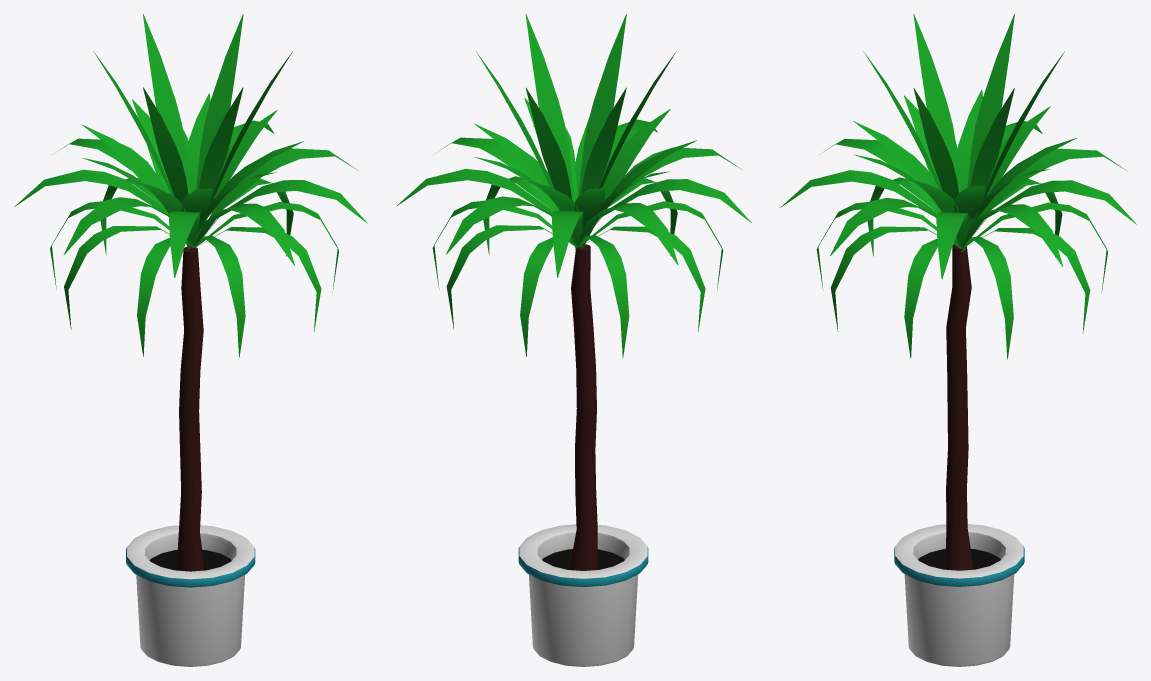
File: Palm.fbx
3 renders of one model, left to right at view 1: azimuth 30°, elevation 25°; view 2: azimuth 150°, elevation 25°; view 3: azimuth 270°, elevation 25°, orthographic.
Parts seen in each view (by area): view 1: Palm_V1; view 2: Palm_V1; view 3: Palm_V1.
Boxes of the visible parts, bbox=[...] form: Palm_V1: bbox=[14, 14, 367, 666]; Palm_V1: bbox=[396, 14, 751, 666]; Palm_V1: bbox=[780, 14, 1136, 666].
Bounding box in the file's own units: 403 × 742 × 401.
